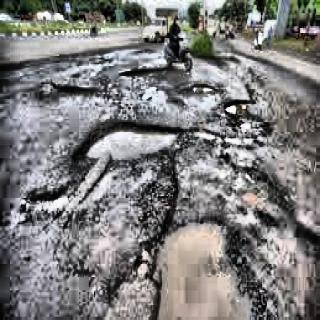pothole: (141, 216, 249, 320), (78, 111, 179, 167), (221, 93, 261, 122), (38, 79, 96, 95), (185, 80, 216, 98)
